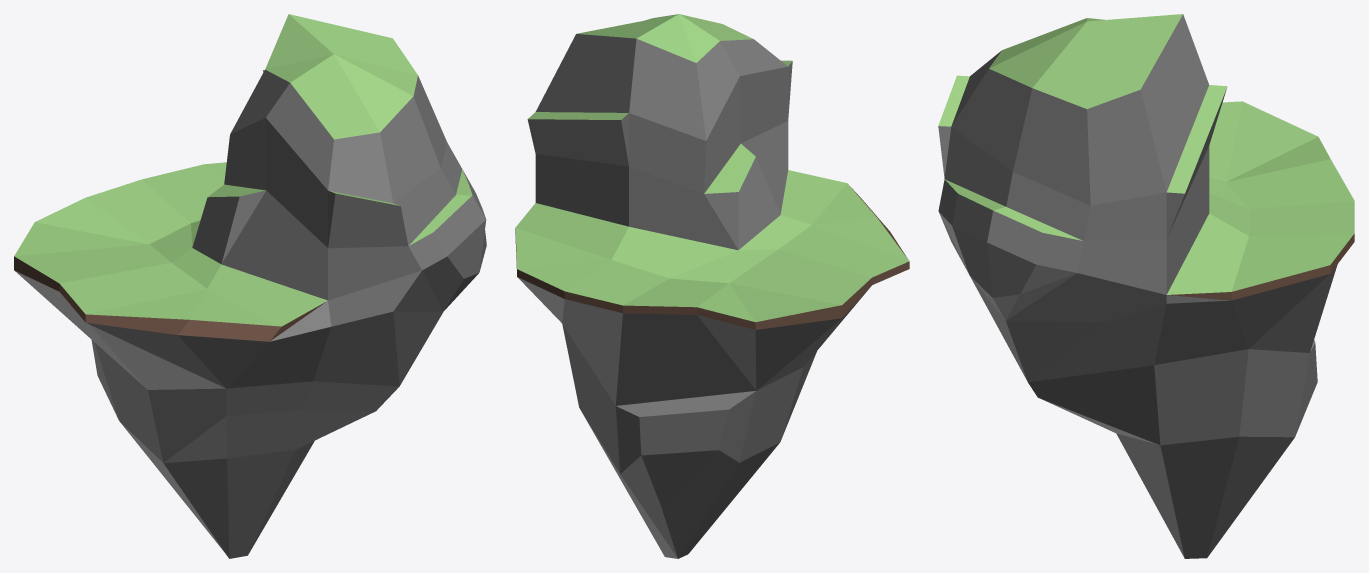
File: Island1.fbx
The picture shows the model from 3 angles, left to right: view 1: azimuth 30°, elevation 25°; view 2: azimuth 150°, elevation 25°; view 3: azimuth 270°, elevation 25°; orthographic projection. The views are drawn at different scales.
Visible parts, largest first — view 1: Island_1; view 2: Island_1; view 3: Island_1.
Boxes of the visible parts, <box> form: Island_1: <box>14,14,486,558</box>; Island_1: <box>515,14,909,558</box>; Island_1: <box>938,14,1354,558</box>.
Bounding box in the file's own units: 4044 × 5354 × 3572.
